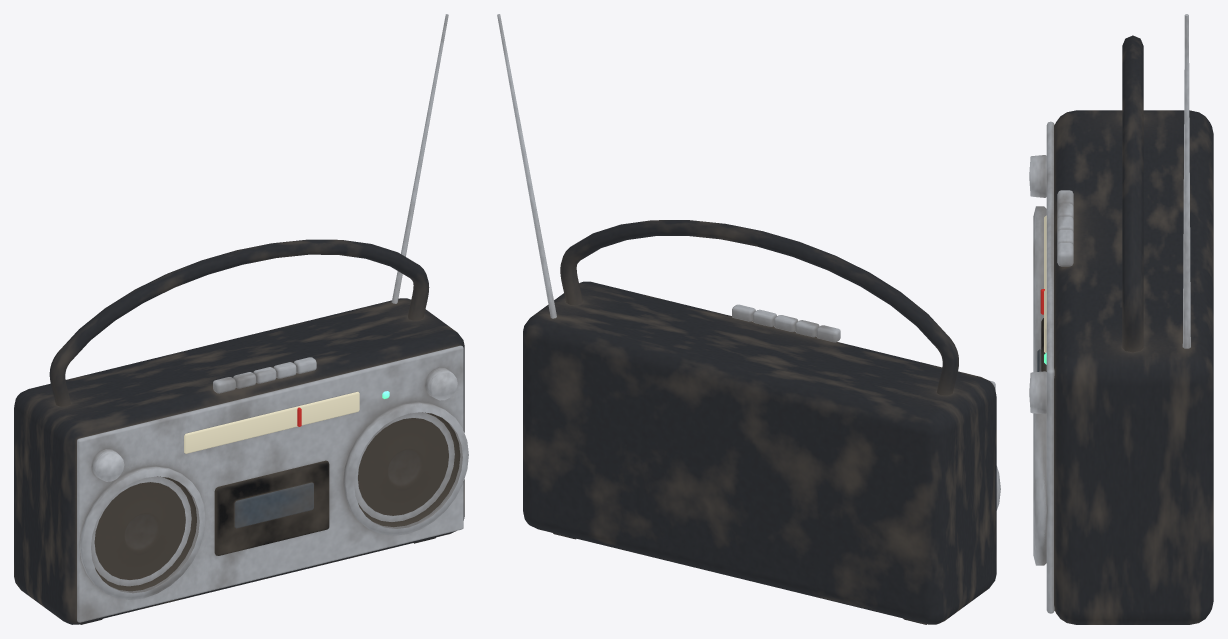
File: radio.glb
3 views of the same model, side by side, from view 1: azimuth 30°, elevation 25°; view 2: azimuth 150°, elevation 25°; view 3: azimuth 270°, elevation 25° (orthographic). The views are drawn at different scales.
Visible parts, largest first — view 1: Radio; view 2: Radio; view 3: Radio.
Boxes of the visible parts, x1,y1,x2,y2 form: Radio: (14, 14, 468, 624); Radio: (497, 14, 1000, 624); Radio: (1029, 14, 1213, 624).
Bounding box in the file's own units: 0.4913 × 0.5263 × 0.137.
2 materials, 1 textured.
